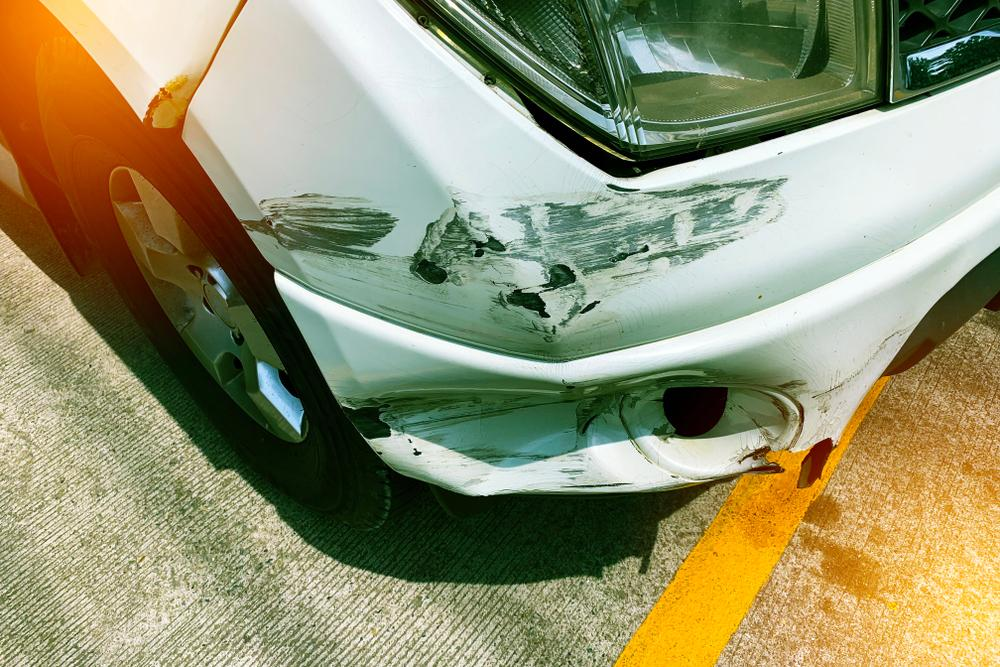dent: (343, 363, 812, 494)
scratch: (237, 172, 794, 350)
